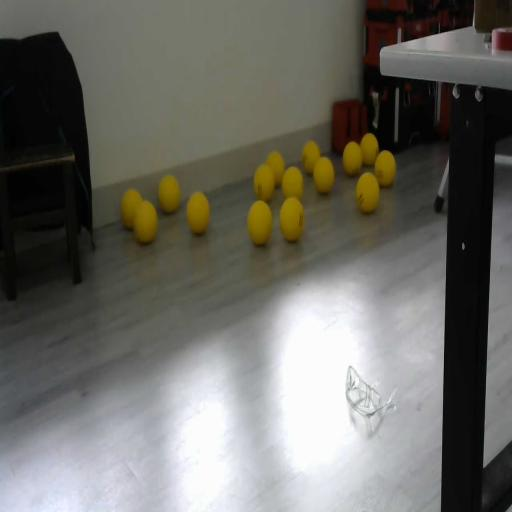FUEL: (278, 196, 304, 242), (132, 198, 158, 244), (247, 200, 273, 245), (186, 190, 210, 235), (356, 172, 380, 214), (312, 155, 336, 193), (158, 174, 180, 214), (374, 149, 396, 187), (266, 149, 286, 188), (282, 166, 304, 201), (342, 141, 363, 176), (360, 132, 378, 166), (301, 140, 321, 168)
